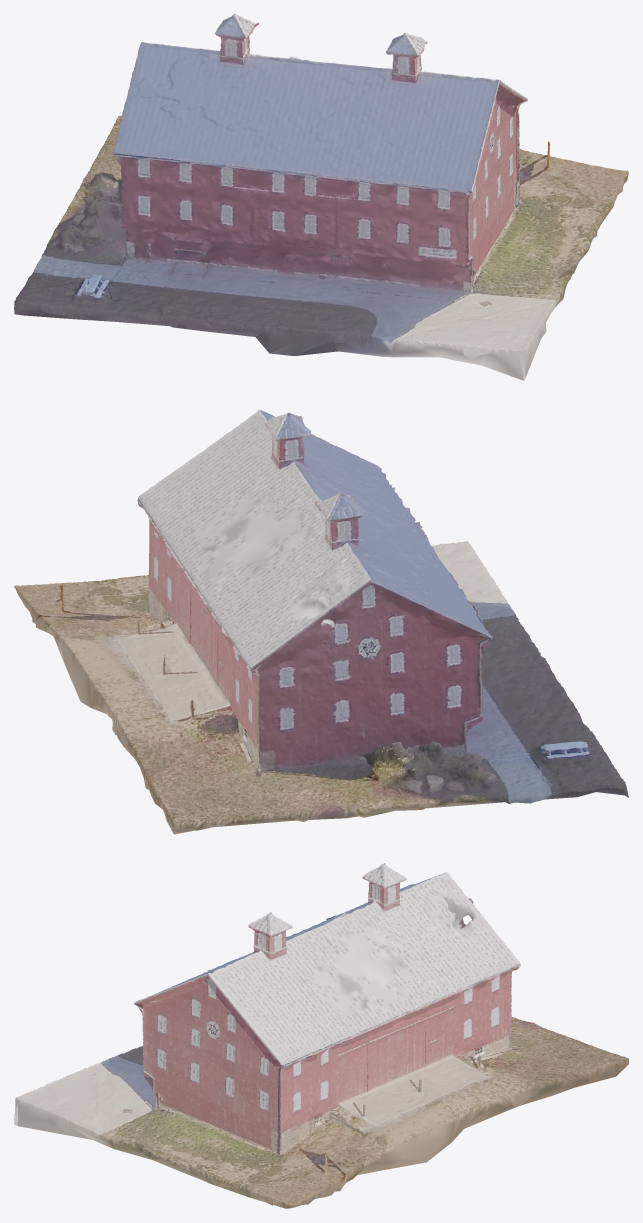
The model's file is vv_granero_rojo_b.glb.
3 renders of one model, top to bottom at view 1: azimuth 30°, elevation 25°; view 2: azimuth 150°, elevation 25°; view 3: azimuth 270°, elevation 25°, orthographic. The views are drawn at different scales.
Visible parts, largest first — view 1: Object_2, Object_4, Object_3, Object_5, Object_6, Object_7; view 2: Object_4, Object_5, Object_6, Object_2, Object_7, Object_3; view 3: Object_3, Object_2, Object_4, Object_7, Object_6, Object_5.
Boxes of the visible parts, x1=… form: Object_2: x1=16, y1=62, x2=628, y2=376; Object_4: x1=14, y1=14, x2=486, y2=314; Object_3: x1=318, y1=35, x2=626, y2=380; Object_5: x1=14, y1=64, x2=595, y2=331; Object_6: x1=31, y1=14, x2=356, y2=334; Object_7: x1=69, y1=35, x2=628, y2=378; Object_4: x1=97, y1=412, x2=627, y2=830; Object_5: x1=23, y1=520, x2=628, y2=815; Object_6: x1=84, y1=479, x2=621, y2=828; Object_2: x1=15, y1=455, x2=625, y2=834; Object_7: x1=14, y1=415, x2=579, y2=829; Object_3: x1=15, y1=409, x2=512, y2=651; Object_3: x1=14, y1=919, x2=378, y2=1205; Object_2: x1=18, y1=924, x2=628, y2=1208; Object_4: x1=162, y1=863, x2=625, y2=1119; Object_7: x1=14, y1=915, x2=628, y2=1208; Object_6: x1=286, y1=864, x2=625, y2=1125; Object_5: x1=247, y1=881, x2=569, y2=1204.
Bounding box in the file's own units: 16.17 × 6.46 × 16.09.
